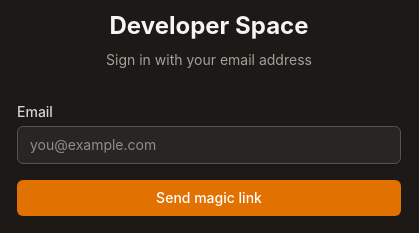
Test: LoginPage › shows confirmation after submitting email
Type "test@example.com" into the field labelled "Email" at {"x": 209, "y": 145}, box x1=17 y1=126 x2=401 y2=164
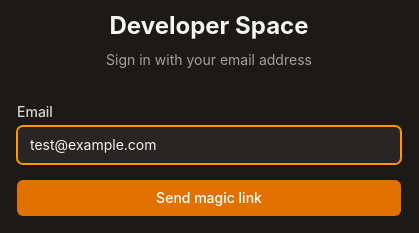
Click the button "Send magic link" at {"x": 209, "y": 198}, box x1=17 y1=180 x2=401 y2=216
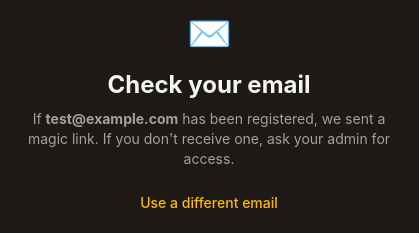
Expected: the heading "Check your email" is shown, x1=108 y1=70 x2=310 y2=98
Expected: the text "test@example.com" is shown, x1=46 y1=110 x2=178 y2=126
